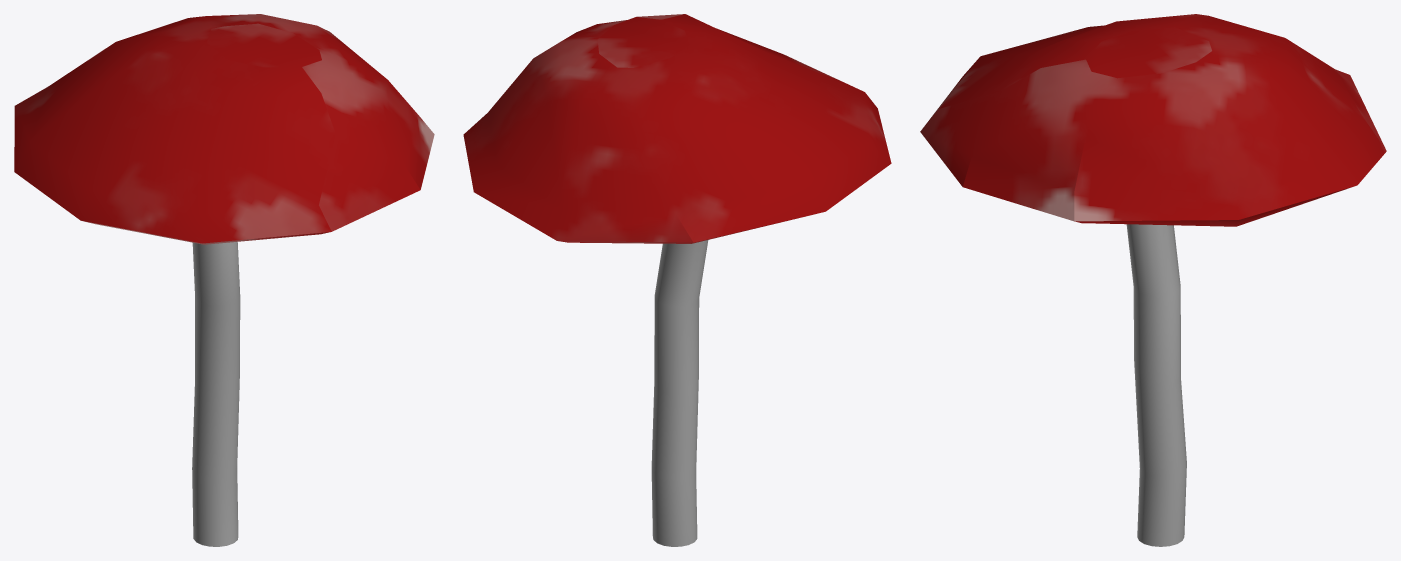
The model's file is Sm_Fungus5L.fbx.
3 views of the same model, side by side, from view 1: azimuth 30°, elevation 25°; view 2: azimuth 150°, elevation 25°; view 3: azimuth 270°, elevation 25° (orthographic). The views are drawn at different scales.
Parts seen in each view (by area): view 1: Sm_Fungus5L; view 2: Sm_Fungus5L; view 3: Sm_Fungus5L.
Part boxes in pixels (x1,y1,x2,y2): Sm_Fungus5L: [14, 14, 434, 546]; Sm_Fungus5L: [463, 14, 891, 546]; Sm_Fungus5L: [920, 14, 1386, 546].
Bounding box in the file's own units: 14.27 × 18.88 × 15.7.
